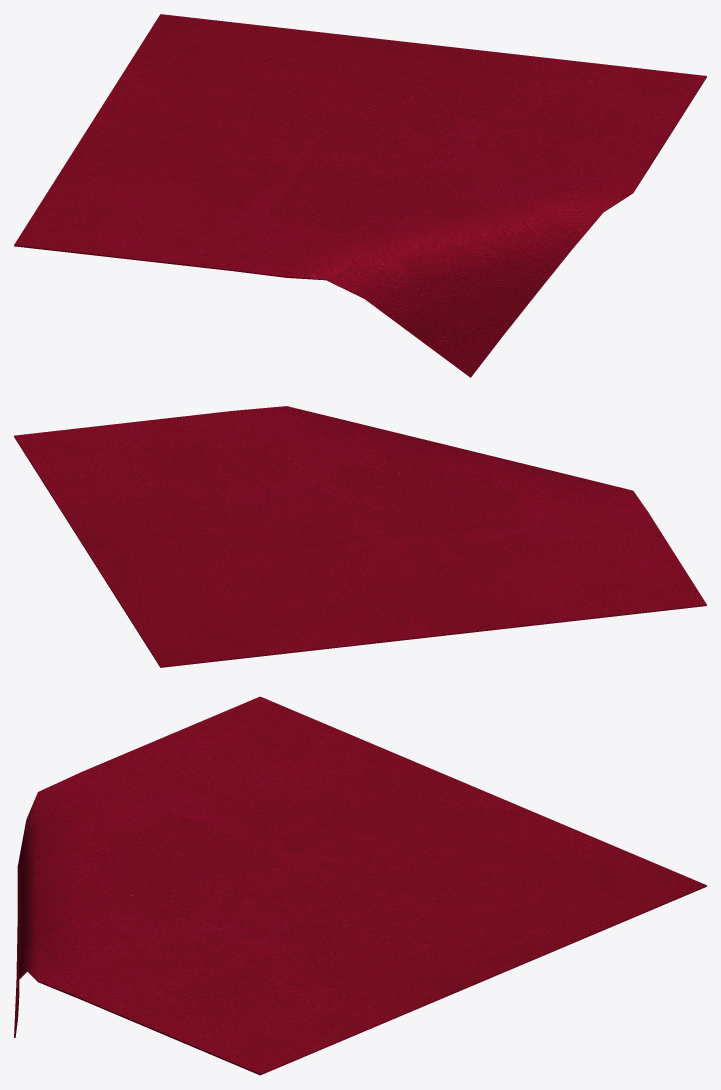
The model's file is Tablecloth.FBX.
3 renders of one model, top to bottom at view 1: azimuth 30°, elevation 25°; view 2: azimuth 150°, elevation 25°; view 3: azimuth 270°, elevation 25°, orthographic. The views are drawn at different scales.
Parts seen in each view (by area): view 1: tablecloth; view 2: tablecloth; view 3: tablecloth.
Part boxes in pixels (x1,y1,x2,y2): tablecloth: [14, 14, 706, 377]; tablecloth: [14, 406, 706, 667]; tablecloth: [14, 696, 706, 1075].
Size of the model in its own units: 50.22 by 9.47 by 38.95.
Materials: 1 (1 with a texture image).
